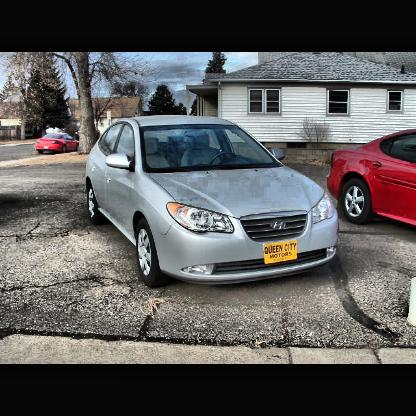Hyundai Elantra Sedan 2007: (83, 118, 339, 291)
